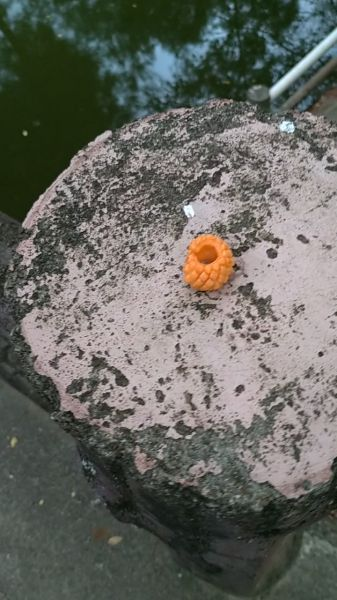eggs: (181, 228, 237, 294)
